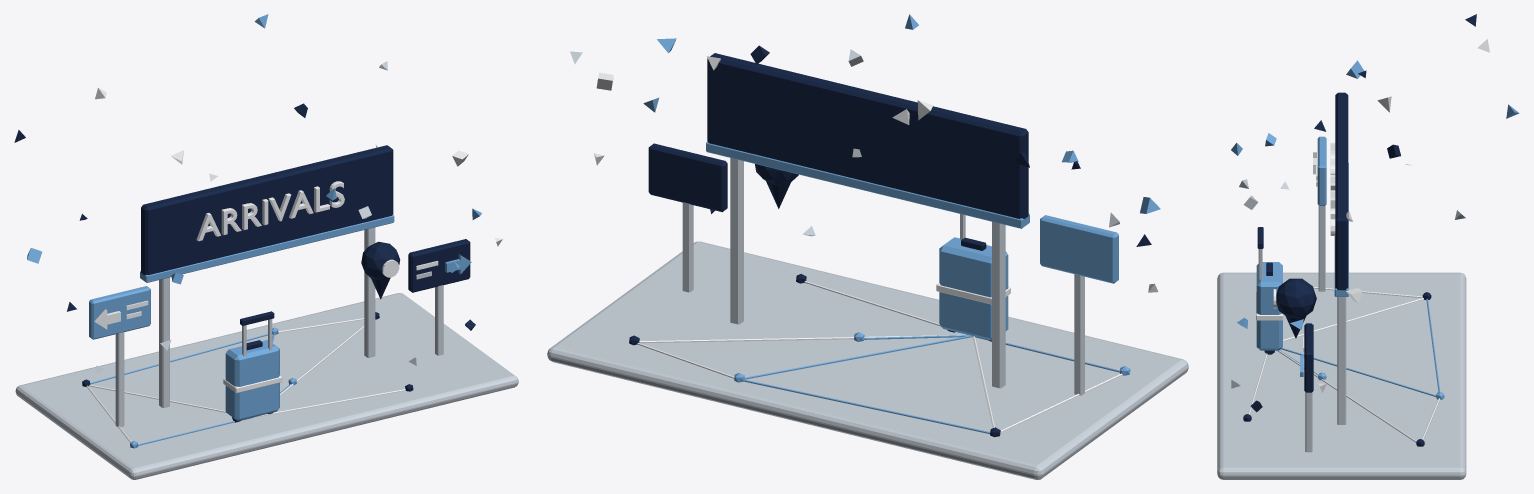
The model's file is arrivals2.glb.
3 renders of one model, left to right at view 1: azimuth 30°, elevation 25°; view 2: azimuth 150°, elevation 25°; view 3: azimuth 270°, elevation 25°, orthographic. The views are drawn at different scales.
Visible parts, largest first — view 1: Base_Platform, Sign_Main_Panel, Suitcase_Body, Sign_Main_Text, Sign_Dir_R_Panel, Sign_Dir_L_Panel, Sign_Main_Accent, Sign_Main_Post_L, Sign_Main_Post_R, Pin_Body, Sign_Dir_L_Post, Sign_Dir_R_Post; view 2: Base_Platform, Sign_Main_Panel, Suitcase_Body, Sign_Dir_R_Panel, Sign_Dir_L_Panel, Sign_Main_Accent, Sign_Main_Post_L, Sign_Main_Post_R, Sign_Dir_L_Post, Sign_Dir_R_Post, Network_Line_01, Network_Line_08; view 3: Base_Platform, Sign_Main_Panel, Suitcase_Body, Pin_Body, Sign_Main_Post_R, Sign_Dir_L_Panel, Sign_Dir_L_Post, Sign_Dir_R_Panel, Sign_Main_Text, Sign_Dir_R_Post, Sign_Main_Accent, Network_Line_01 (+1 smaller).
Part boxes in pixels (x1,y1,x2,y2): Base_Platform: (15,293,518,479); Sign_Main_Panel: (141,145,393,275); Suitcase_Body: (225,340,279,420); Sign_Main_Text: (196,181,344,241); Sign_Dir_R_Panel: (408,239,470,292); Sign_Dir_L_Panel: (89,286,150,339); Sign_Main_Accent: (140,215,394,282); Sign_Main_Post_L: (159,277,169,407); Sign_Main_Post_R: (364,227,375,357); Pin_Body: (361,241,400,280); Sign_Dir_L_Post: (115,332,124,427); Sign_Dir_R_Post: (435,285,443,355); Base_Platform: (547,241,1188,479); Sign_Main_Panel: (707,53,1028,218); Suitcase_Body: (939,237,1008,340); Sign_Dir_R_Panel: (648,143,727,212); Sign_Dir_L_Panel: (1040,215,1118,283); Sign_Main_Accent: (706,141,1029,228); Sign_Main_Post_L: (992,221,1005,388); Sign_Main_Post_R: (730,158,743,324); Sign_Dir_L_Post: (1074,273,1084,395); Sign_Dir_R_Post: (682,202,693,292); Network_Line_01: (639,335,960,343); Network_Line_08: (743,379,990,433); Base_Platform: (1217,272,1466,479); Sign_Main_Panel: (1335,92,1348,290); Suitcase_Body: (1256,262,1282,350); Pin_Body: (1276,278,1316,318); Sign_Main_Post_R: (1337,297,1346,424); Sign_Dir_L_Panel: (1317,136,1326,205); Sign_Dir_L_Post: (1318,205,1325,291); Sign_Dir_R_Panel: (1304,323,1313,392); Sign_Main_Text: (1330,142,1335,235); Sign_Dir_R_Post: (1305,392,1312,452); Sign_Main_Accent: (1334,163,1348,296); Network_Line_01: (1277,350,1416,442).
Size of the model in its own units: 4.26 by 2.65 by 2.31.
